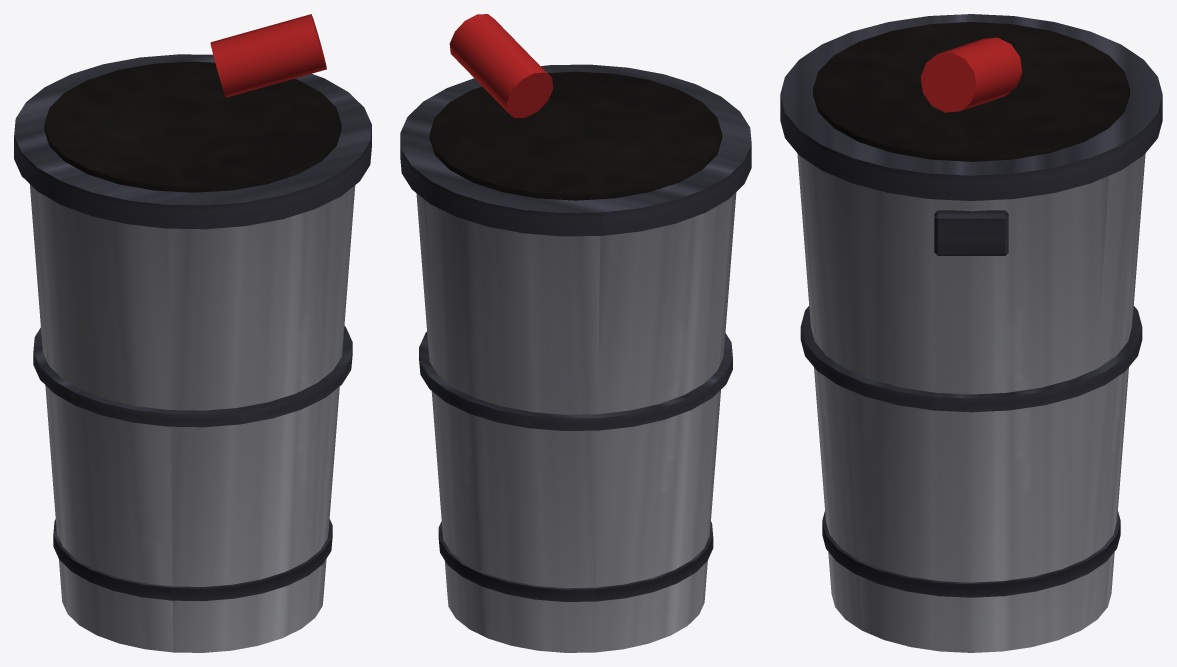
File: trash_can.glb
3 views of the same model, side by side, from view 1: azimuth 30°, elevation 25°; view 2: azimuth 150°, elevation 25°; view 3: azimuth 270°, elevation 25° (orthographic). The views are drawn at different scales.
Visible parts, largest first — view 1: trash_can; view 2: trash_can; view 3: trash_can.
Part boxes in pixels (<box>): trash_can: <box>14,14,371,652</box>; trash_can: <box>400,14,751,652</box>; trash_can: <box>780,14,1162,652</box>.
Bounding box in the file's own units: 0.41 × 0.7074 × 0.41.
Materials: 4 (3 with a texture image).
